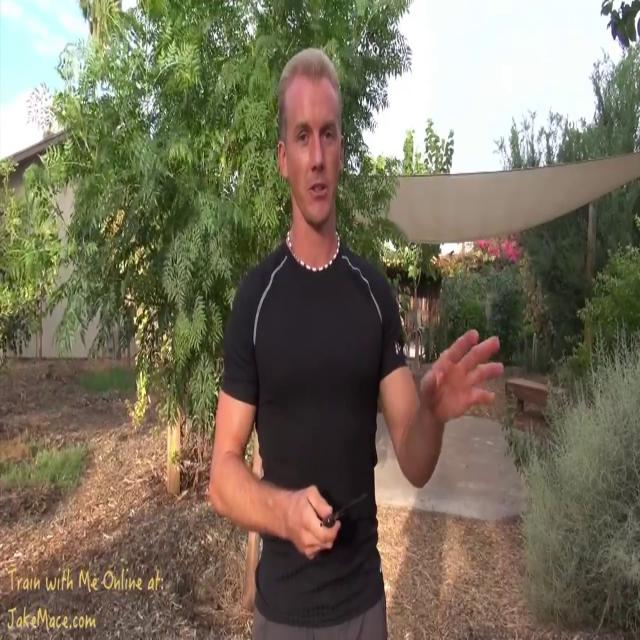knife: (318, 489, 374, 543)
